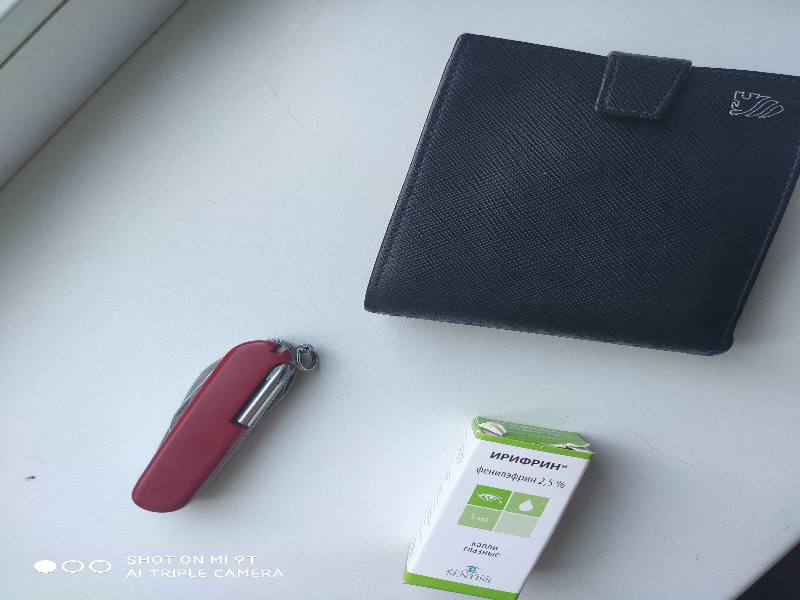ifrin: (398, 415, 592, 600)
knife: (105, 335, 325, 515)
wallet: (365, 28, 800, 358)
